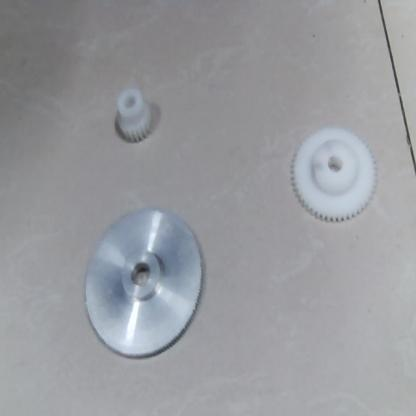FOD: (81, 204, 206, 363), (288, 123, 384, 225), (110, 87, 158, 151)
